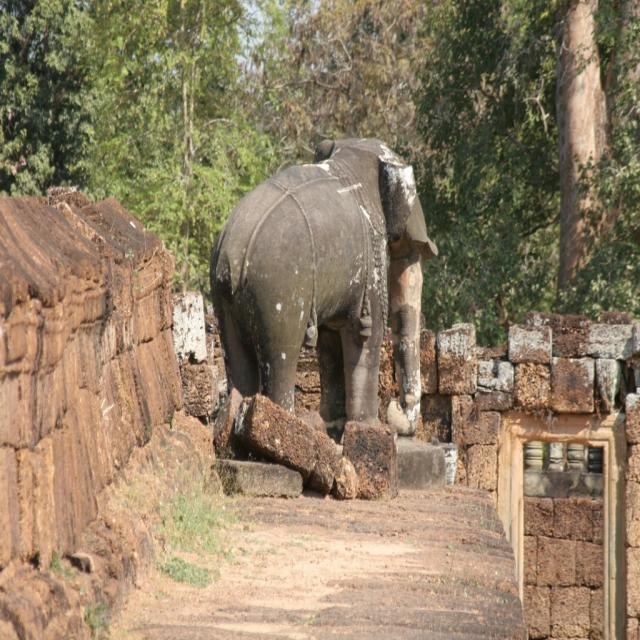elephant: (207, 138, 438, 464)
